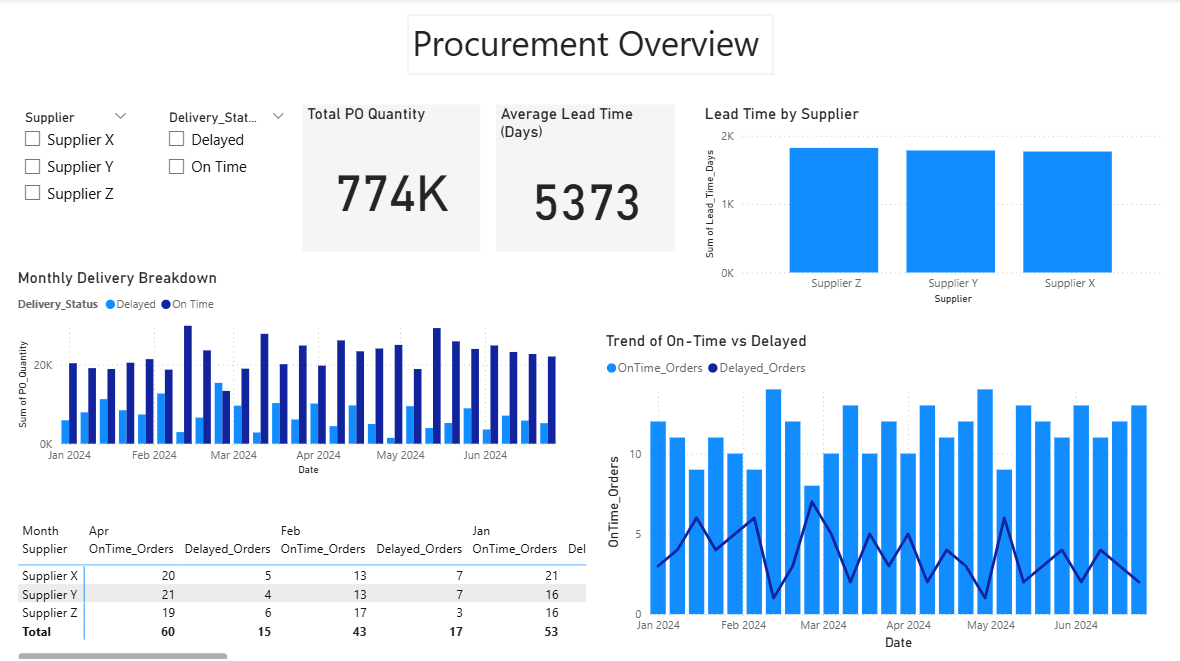

What the dashboard file says about the page in this screenshot:
{"tool":"powerbi","page":{"name":"Procurement Overview","canvas":[1280,720],"ordinal":3},"visuals":[{"type":"textbox","box":[442,17.8,395.1,64.8],"z":0},{"type":"card","title":"Total PO Quantity","fields":{"Values":["Procurement_Data.Total_PO_Quantity"]},"box":[328.3,115,191.7,158.3],"z":1},{"type":"card","title":"Average Lead Time (Days)","fields":{"Values":["Sum(Procurement_Data.Lead_Time_Days)"]},"box":[538.3,115,193.3,158.3],"z":2},{"type":"clusteredColumnChart","title":"Monthly Delivery Breakdown","fields":{"Category":["Procurement_Data.Date"],"Y":["Sum(Procurement_Data.PO_Quantity)"],"Series":["Procurement_Data.Delivery_Status"]},"box":[16.7,291.7,608.3,228.3],"z":3},{"type":"slicer","fields":{"Values":["Procurement_Data.Supplier"]},"box":[16.7,115,135,143.3],"z":4},{"type":"clusteredColumnChart","title":"Lead Time by Supplier","fields":{"Category":["Procurement_Data.Supplier"],"Y":["Sum(Procurement_Data.Lead_Time_Days)"]},"box":[758.3,115,505,220],"z":5},{"type":"lineClusteredColumnComboChart","title":"Trend of On-Time vs Delayed","fields":{"Category":["Procurement_Data.Date"],"Y":["Procurement_Data.OnTime_Orders"],"Y2":["Procurement_Data.Delayed_Orders"]},"box":[651.7,360,611.7,348.3],"z":6},{"type":"slicer","fields":{"Values":["Procurement_Data.Delivery_Status"]},"box":[171.7,115,150,135],"z":7},{"type":"pivotTable","fields":{"Values":["Procurement_Data.OnTime_Orders","Procurement_Data.Delayed_Orders"],"Columns":["DateTable.Month"],"Rows":["Procurement_Data.Supplier"]},"box":[16.7,558.3,623.3,161.7],"z":8}]}

Visuals, with their boxes in screenshot pixels (x1, y1, x2, y2), scaled from the page's 1280x720 canvas onto the 1180x661 screenshot:
textbox: region(407, 16, 772, 76)
"Total PO Quantity" card: region(303, 106, 479, 251)
"Average Lead Time (Days)" card: region(496, 106, 674, 251)
"Monthly Delivery Breakdown" clusteredColumnChart: region(15, 268, 576, 477)
slicer - Procurement_Data.Supplier: region(15, 106, 140, 237)
"Lead Time by Supplier" clusteredColumnChart: region(699, 106, 1165, 308)
"Trend of On-Time vs Delayed" lineClusteredColumnComboChart: region(601, 330, 1165, 650)
slicer - Procurement_Data.Delivery_Status: region(158, 106, 297, 230)
pivotTable - Procurement_Data.OnTime_Orders x Procurement_Data.Delayed_Orders: region(15, 513, 590, 660)
